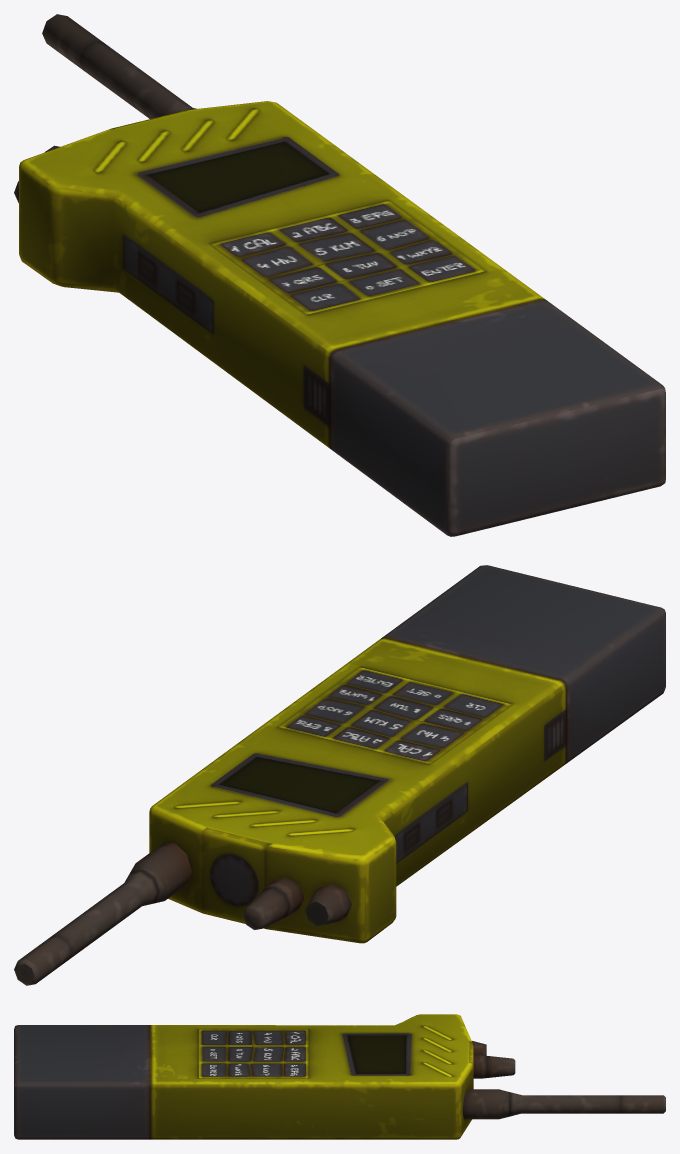
Rendered from ArmyRadio01.FBX.
3 renders of one model, top to bottom at view 1: azimuth 30°, elevation 25°; view 2: azimuth 150°, elevation 25°; view 3: azimuth 270°, elevation 25°, orthographic. The views are drawn at different scales.
Visible parts, largest first — view 1: ArmyRadio01; view 2: ArmyRadio01; view 3: ArmyRadio01.
Boxes of the visible parts, x1,y1,x2,y2 form: ArmyRadio01: (14, 14, 665, 536); ArmyRadio01: (14, 565, 665, 985); ArmyRadio01: (14, 1014, 665, 1139).
Size of what is drawn, in the model's own units: 0.1112 by 0.0418 by 0.4308.
